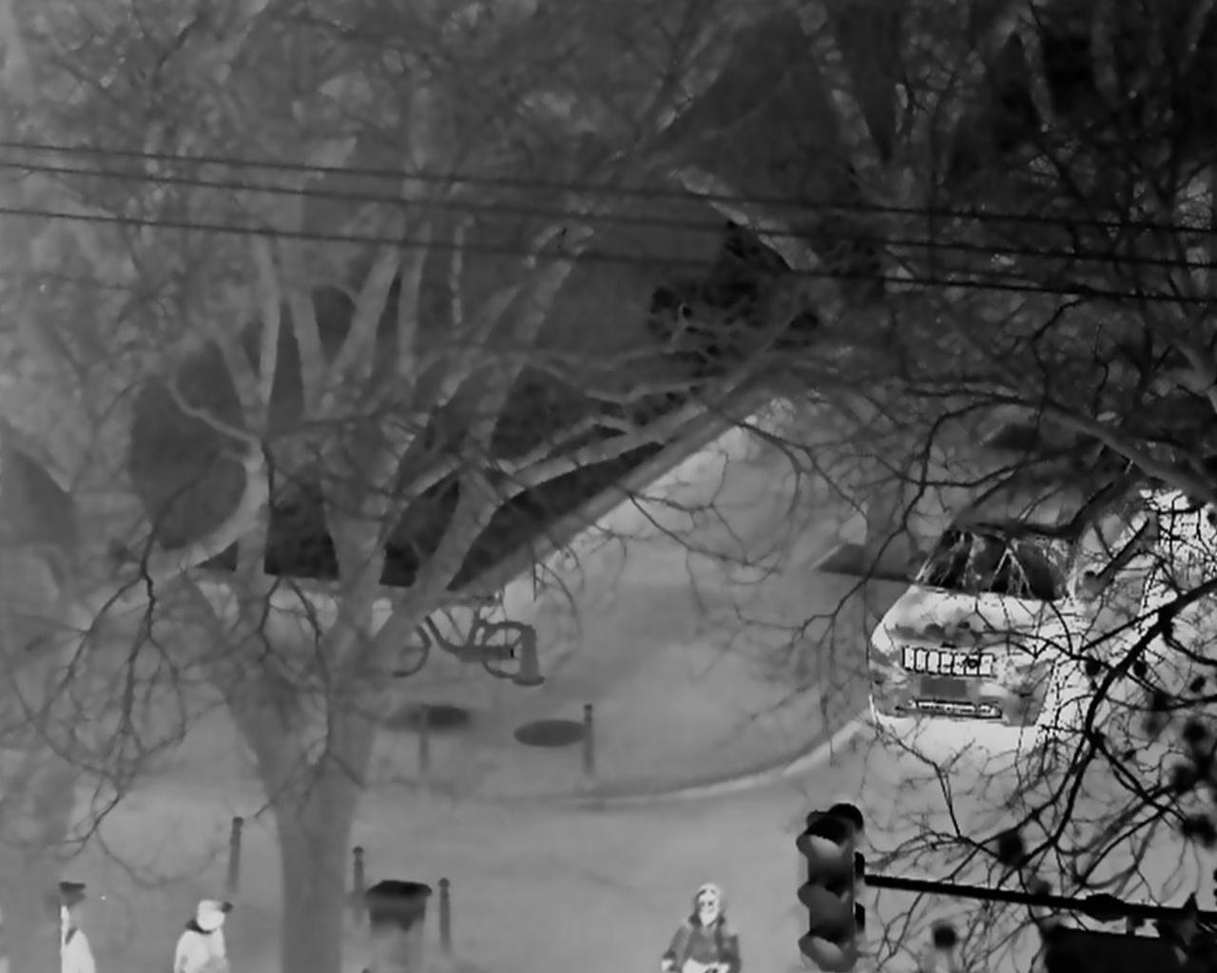person: (656, 882, 742, 973), (171, 898, 229, 973), (59, 882, 95, 973)
